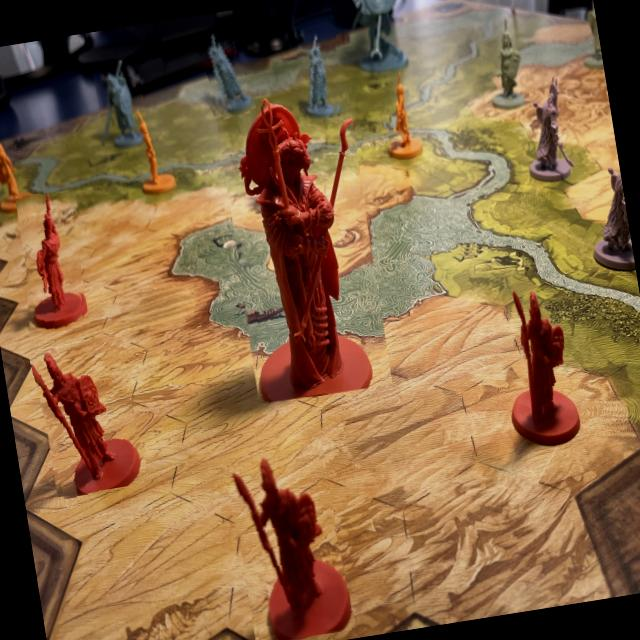amon: (213, 83, 394, 404)
amon_follower: (224, 442, 355, 640), (32, 334, 148, 499), (488, 274, 592, 455), (12, 188, 94, 336)
isis_follower: (288, 26, 347, 128), (92, 58, 151, 156), (197, 28, 253, 121)
